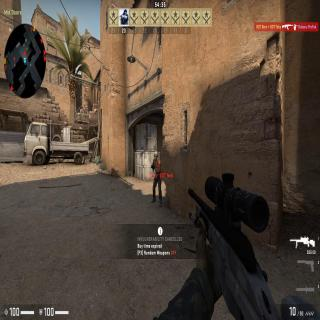T-Body: (151, 150, 163, 207)
T-Head: (154, 151, 158, 160)
